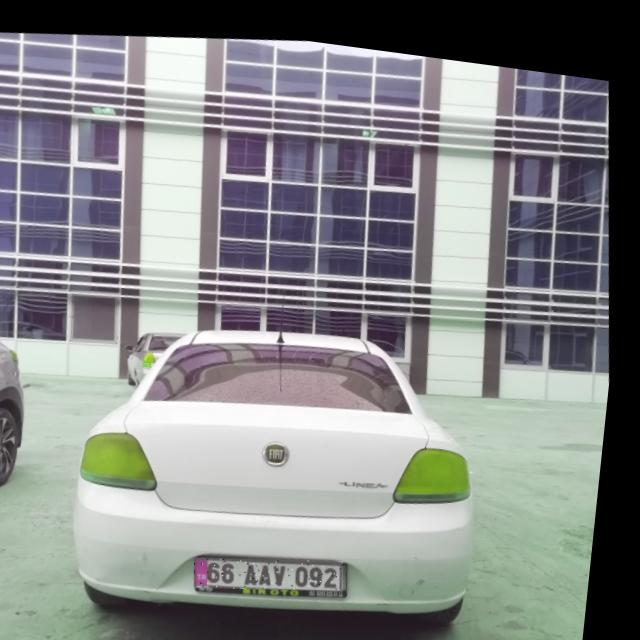license_plate: (203, 534, 359, 596)
